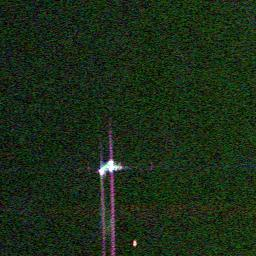Ship: (96, 157, 127, 174)
